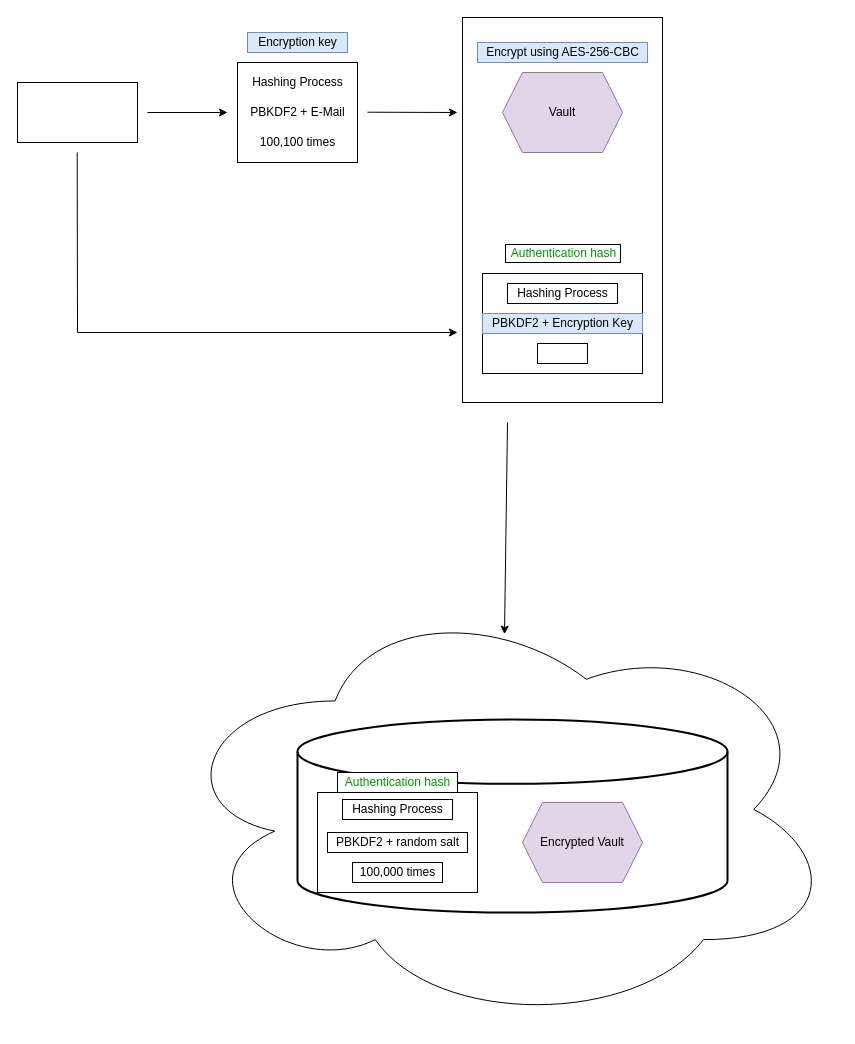
Some shapes in this 855 by 1044 pixel diagram are drawn without their labels. Here are the shapes that lost their labels. From the top down, the centre of each, then its label:
At point 77,112: "Master Password".
At point 562,353: "1 time".
